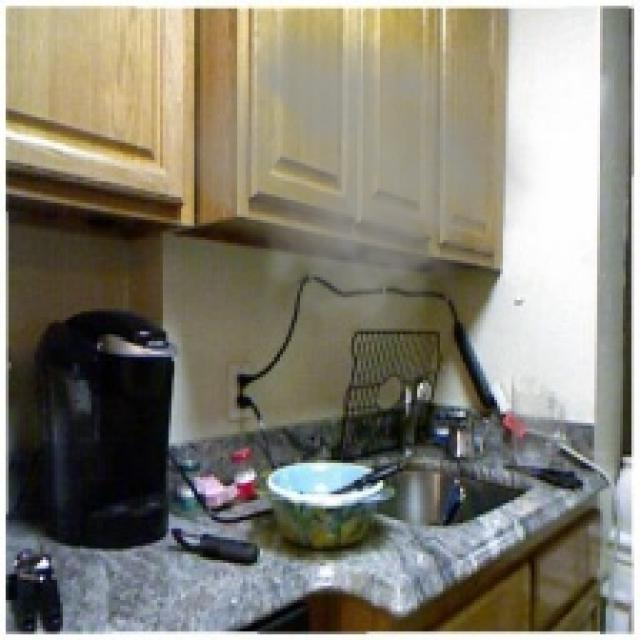smoke: (163, 11, 548, 360)
